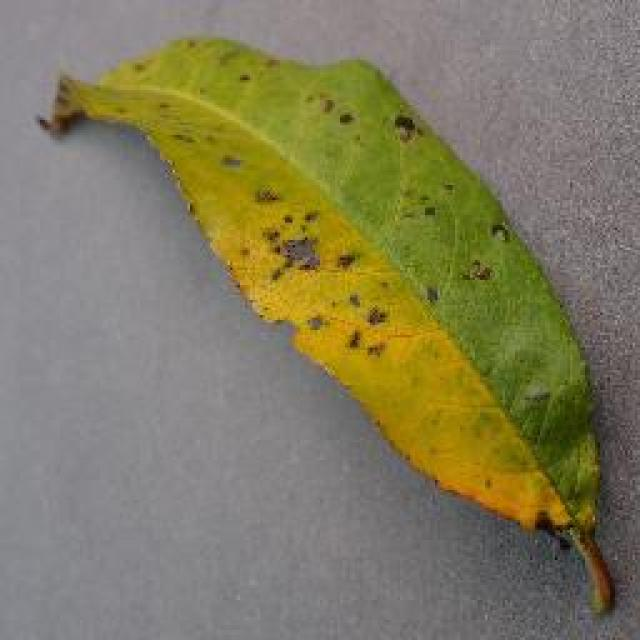Pea_Bacterial_spot: (232, 149, 502, 371), (304, 71, 440, 154)
